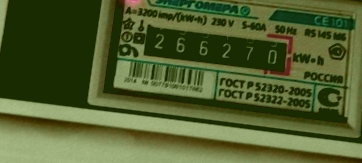0: (264, 46, 278, 65)
2: (150, 30, 165, 49), (219, 40, 232, 59)
6: (173, 34, 187, 53), (196, 38, 210, 57)
7: (241, 42, 255, 62)
screen: (131, 13, 299, 82)
